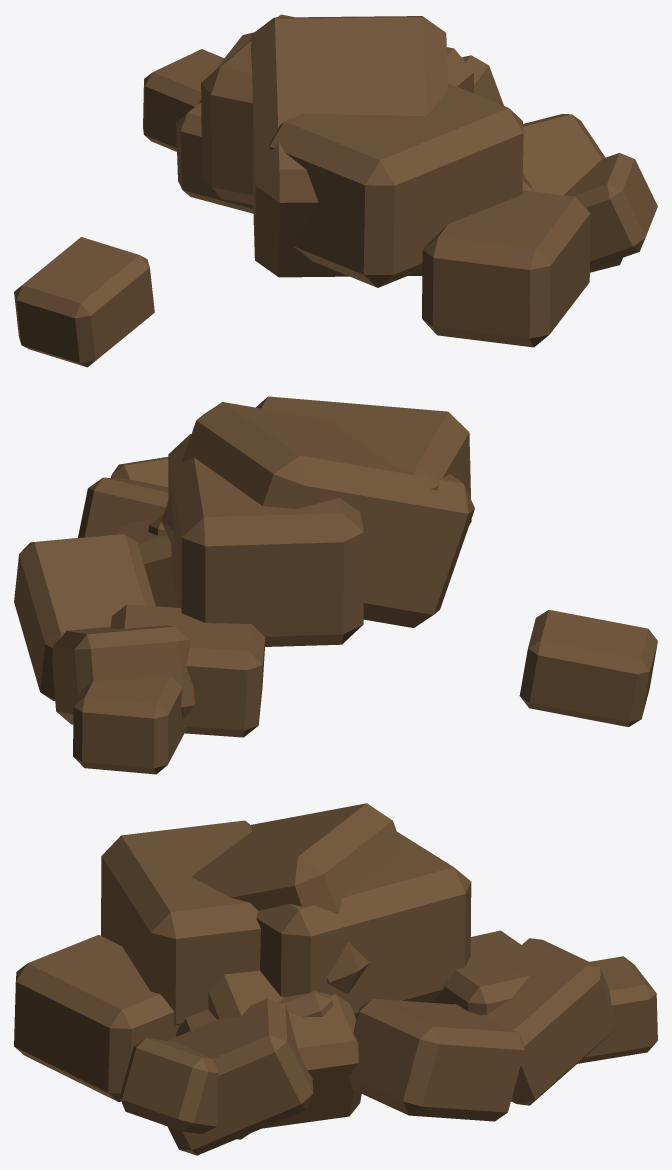
The model's file is prop_rubble2_3197.glb.
The picture shows the model from 3 angles, top to bottom: view 1: azimuth 30°, elevation 25°; view 2: azimuth 150°, elevation 25°; view 3: azimuth 270°, elevation 25°; orthographic projection. The views are drawn at different scales.
Visible parts, largest first — view 1: prop_rubble2_3197; view 2: prop_rubble2_3197; view 3: prop_rubble2_3197.
Part boxes in pixels (bbox=[...]): prop_rubble2_3197: bbox=[14, 14, 657, 367]; prop_rubble2_3197: bbox=[14, 396, 657, 774]; prop_rubble2_3197: bbox=[14, 803, 657, 1155].
Bounding box in the file's own units: 0.9064 × 0.3568 × 0.8841.
Materials: 1 (1 with a texture image).
